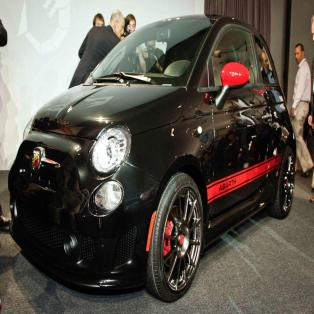Auto: (8, 15, 296, 302)
